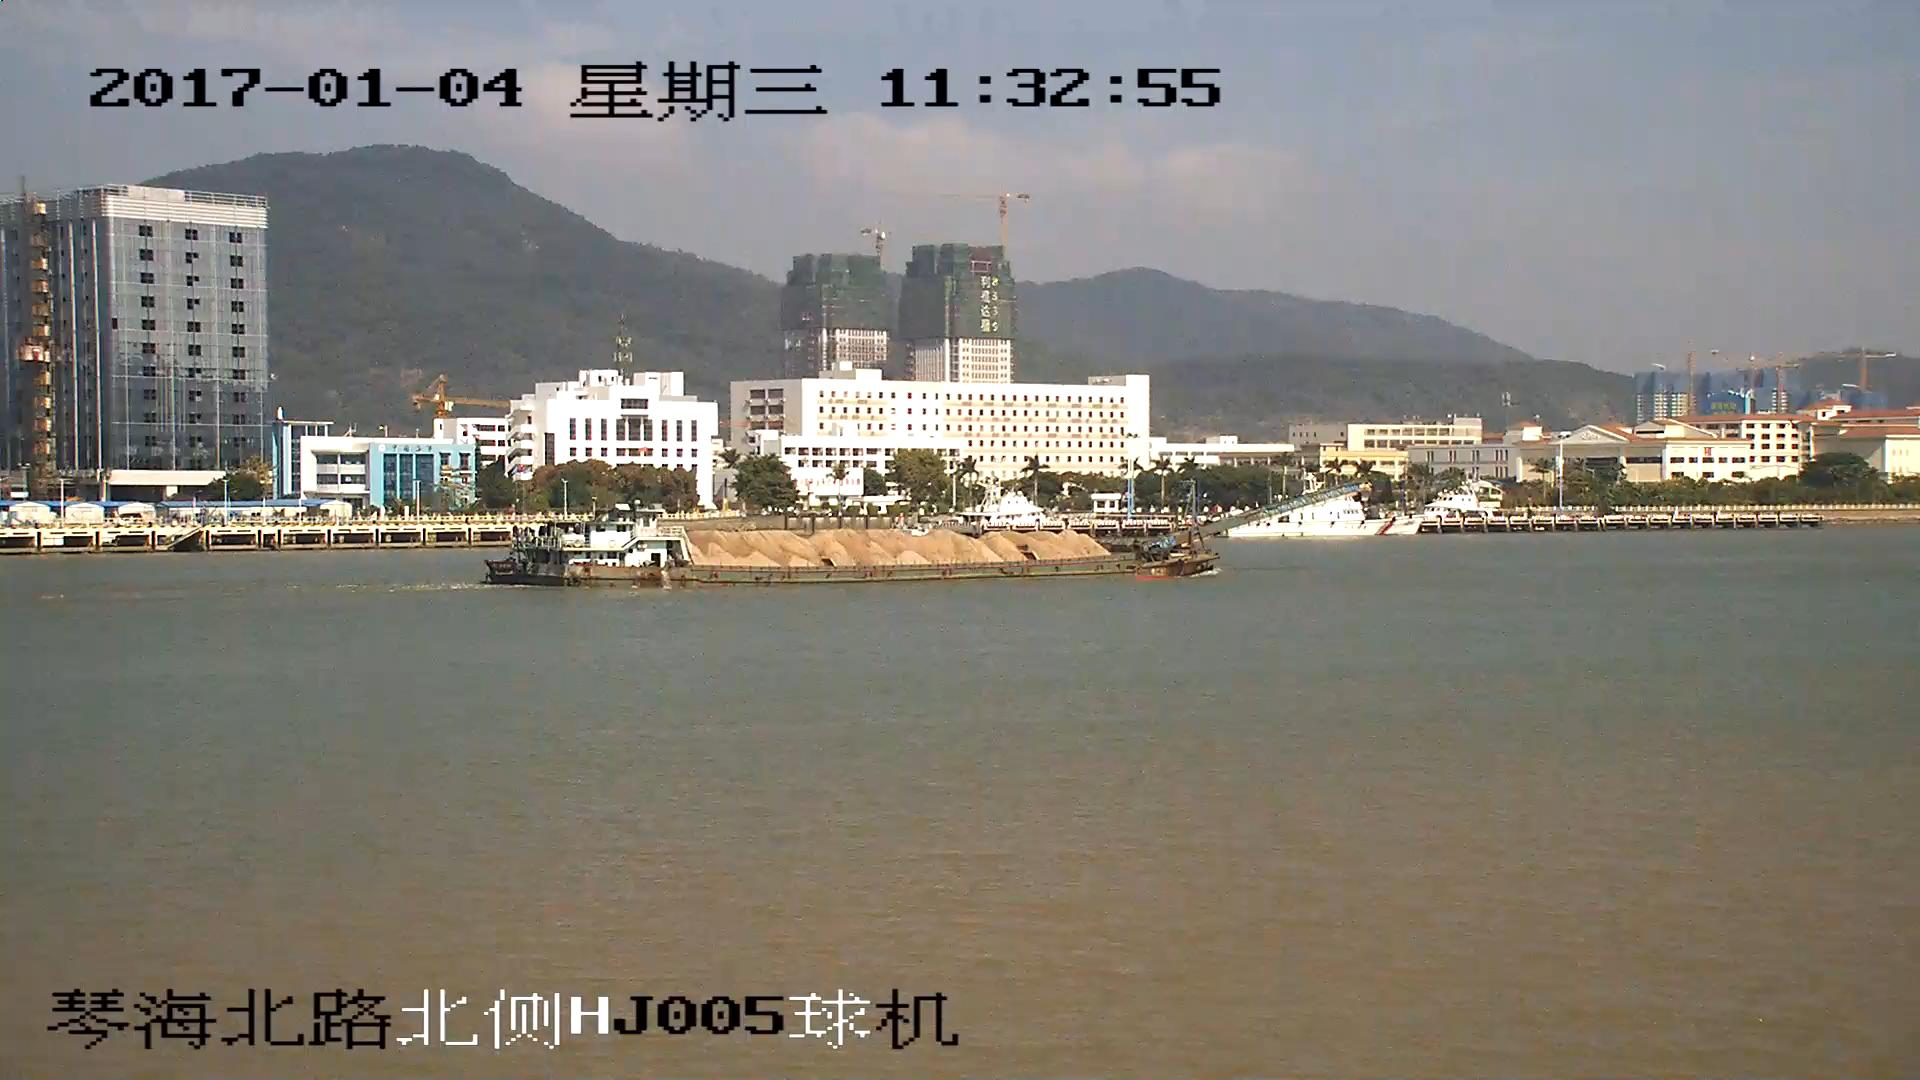ore carrier: (488, 477, 1365, 592)
